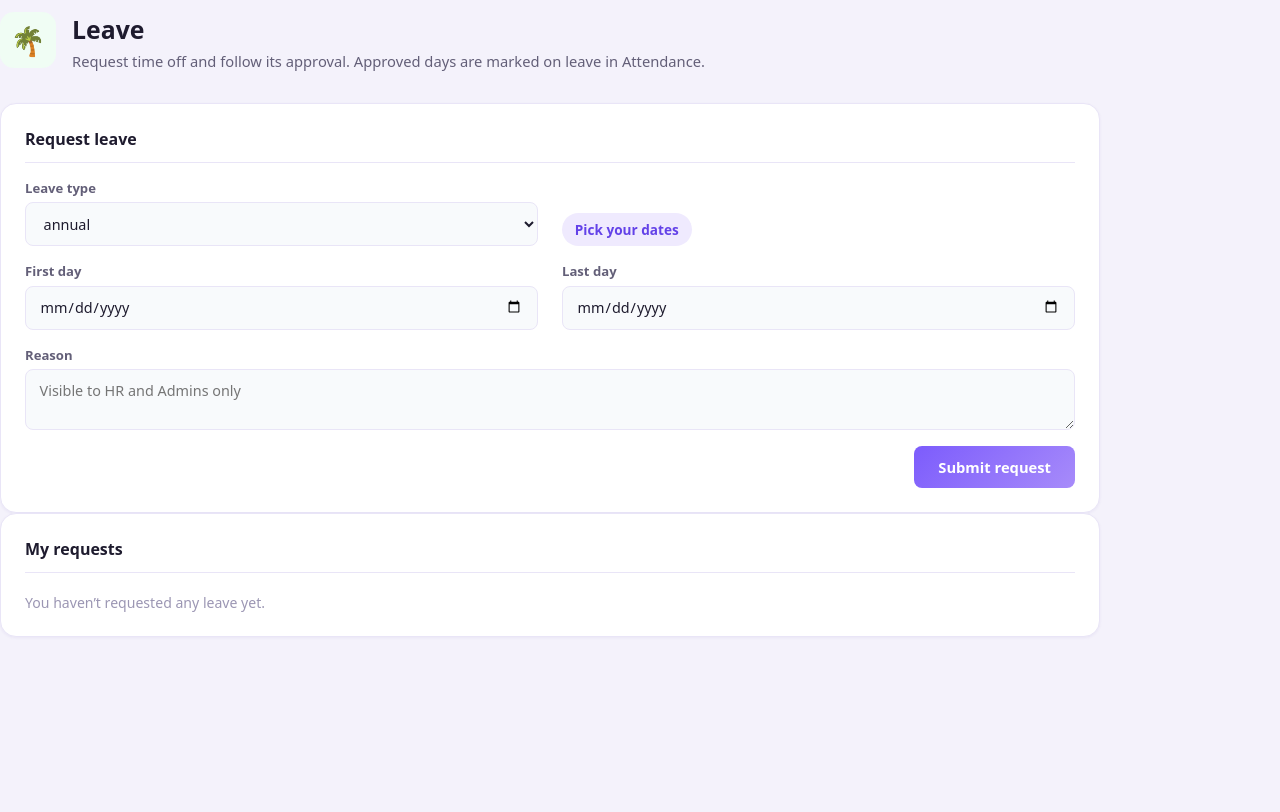
it: employee submits a request and never sees approval controls
The image size is (1280, 812).
Select "sick" in the dropdown with id "lv-type" at (282, 224), box [25, 202, 538, 246]
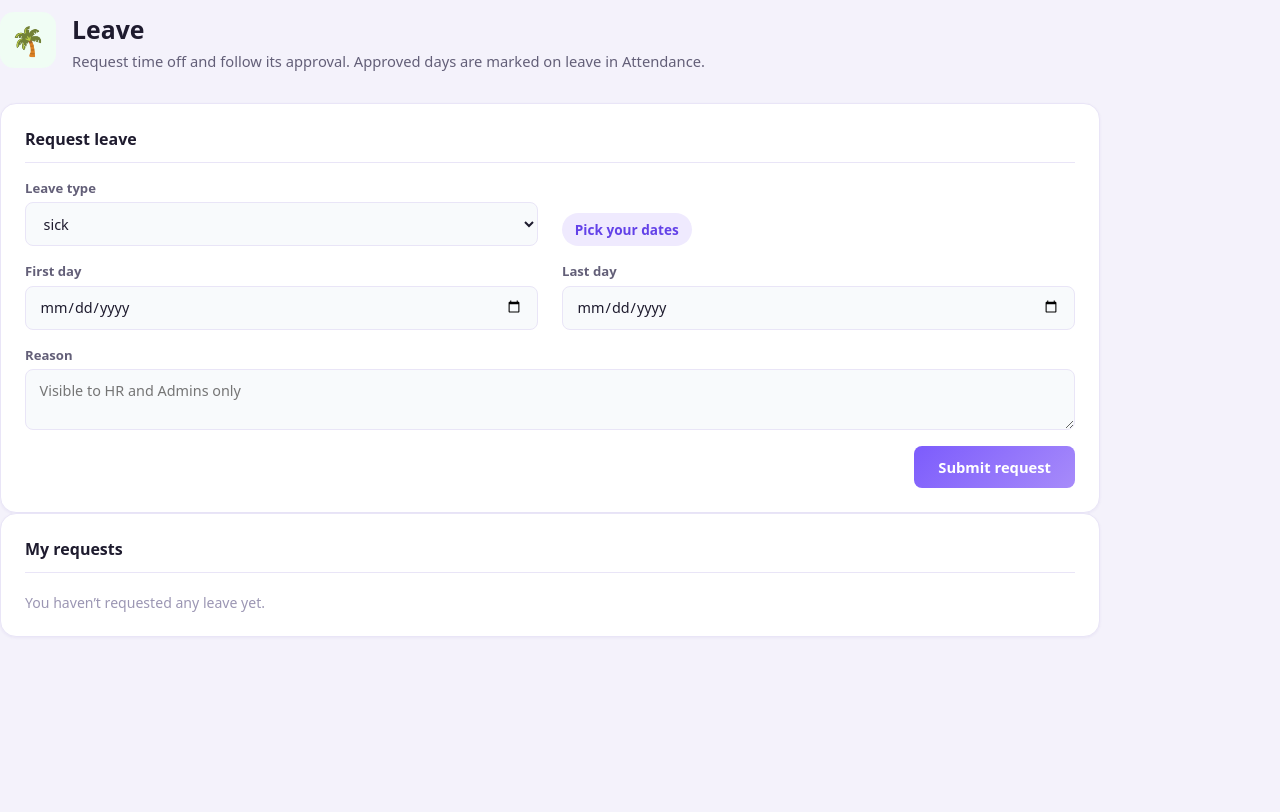
Type "2026-12-07" into the date field with id "lv-start".
click(282, 308); type("2026-12-07")  # box [25, 286, 538, 330]
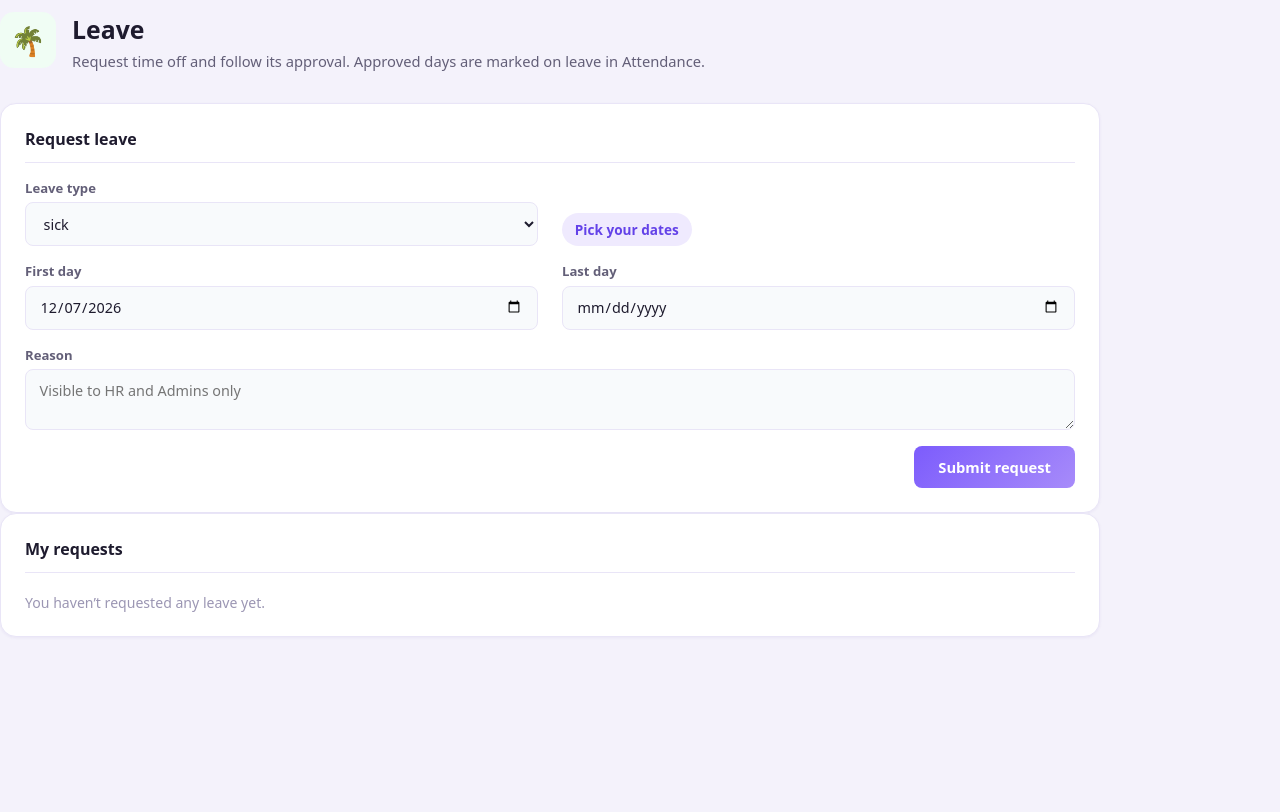
Type "2026-12-09" into the date field with id "lv-end".
click(818, 308); type("2026-12-09")  # box [562, 286, 1075, 330]
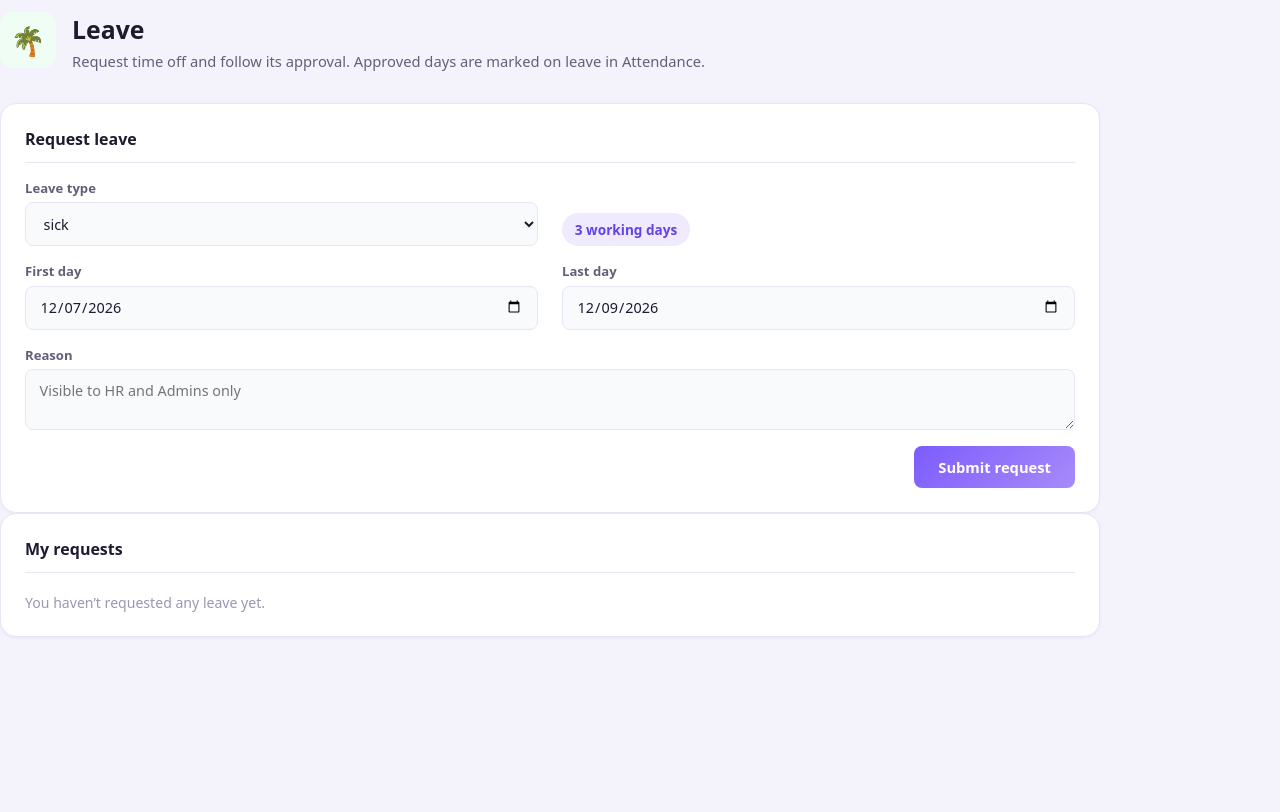
Type "Flu" into the text box with id "lv-reason".
click(550, 400); type("Flu")  # box [25, 369, 1075, 430]
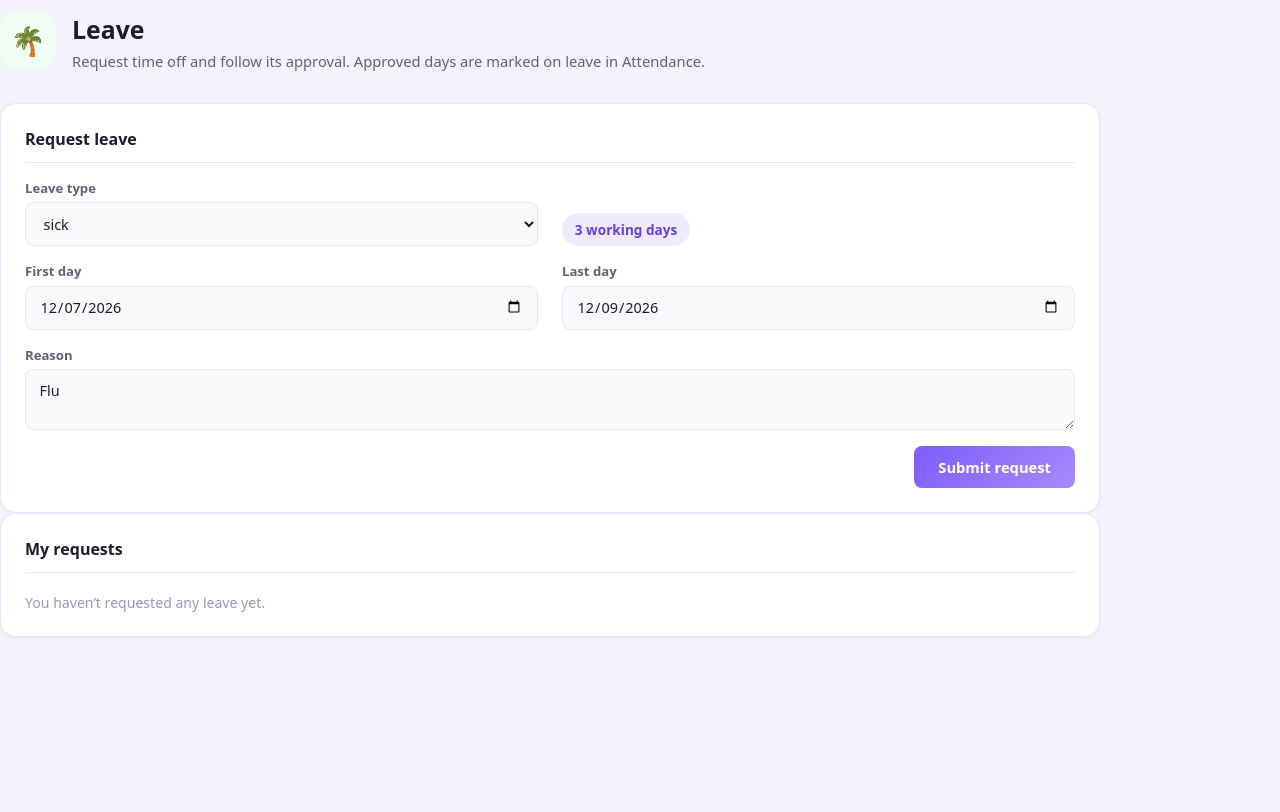
Result: the text "3 working days" is shown at [562, 213, 690, 246]
Submit the form named "Request leave", box [0, 103, 1100, 513]
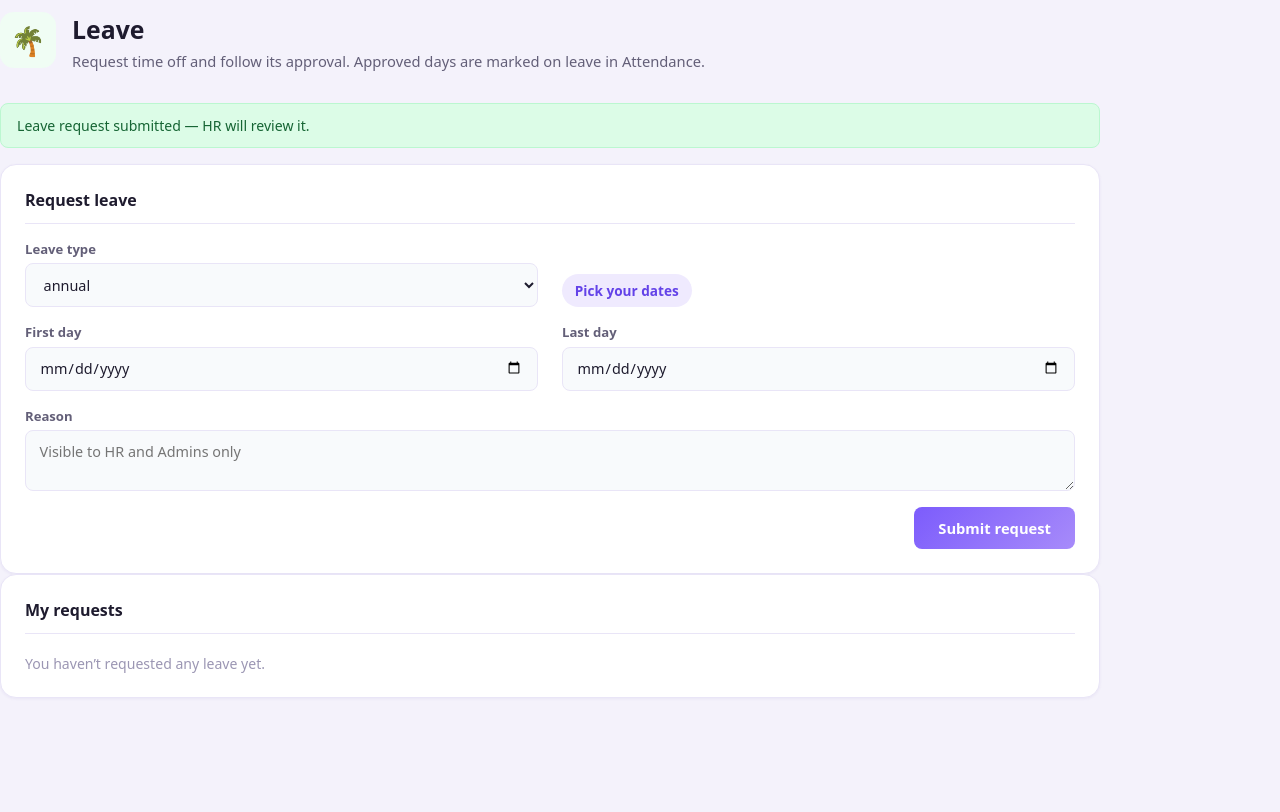
Result: the text "Leave request submitted" is shown at [17, 116, 310, 135]
